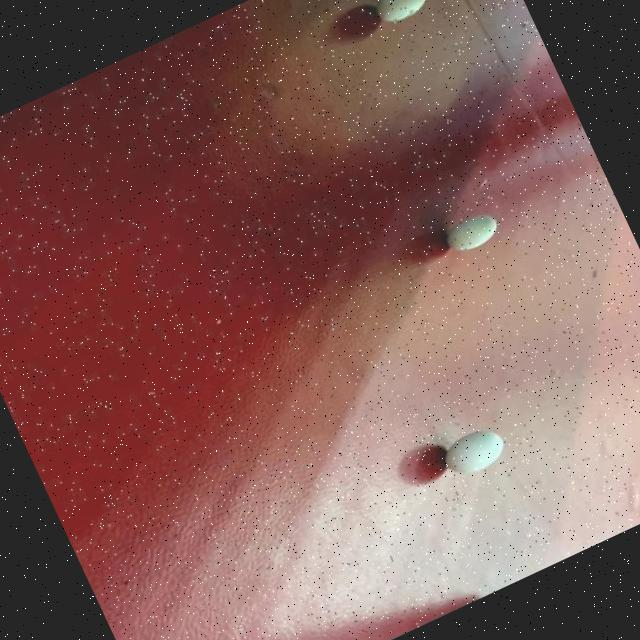ping-pong-ball: (436, 421, 514, 486), (439, 207, 506, 260), (366, 0, 437, 32)
